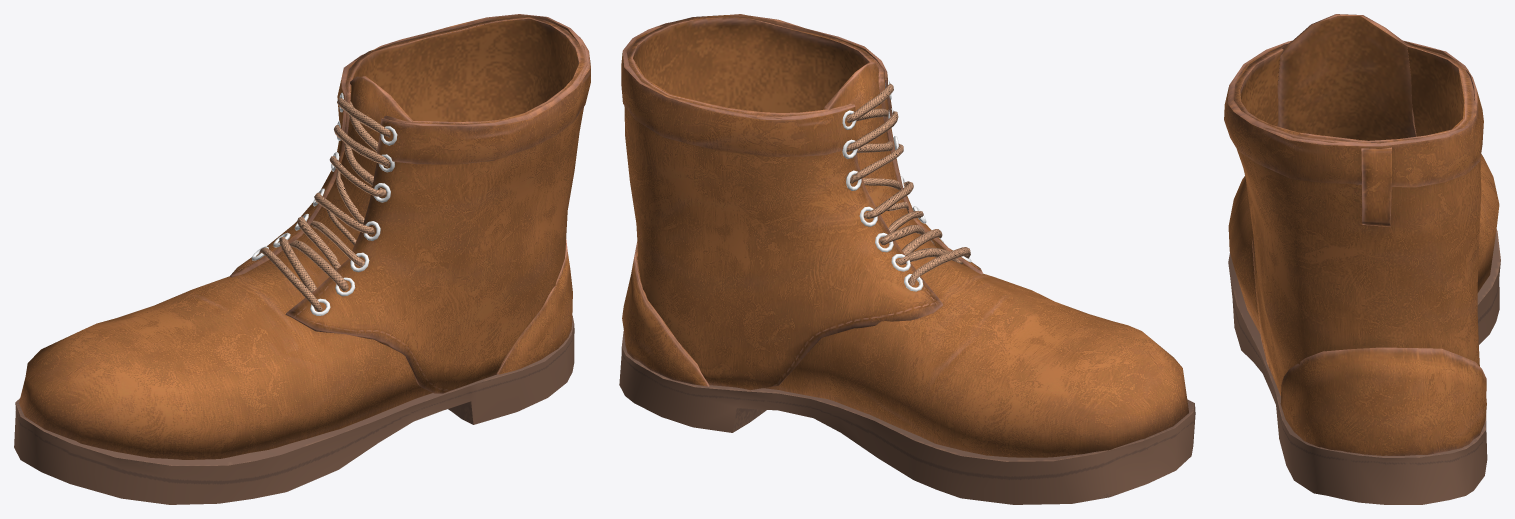
Rendered from SM_Shoes_B1.fbx.
3 renders of one model, left to right at view 1: azimuth 30°, elevation 25°; view 2: azimuth 150°, elevation 25°; view 3: azimuth 270°, elevation 25°, orthographic. The views are drawn at different scales.
Visible parts, largest first — view 1: SM_Shoes_B1; view 2: SM_Shoes_B1; view 3: SM_Shoes_B1.
Boxes of the visible parts, <box> form: SM_Shoes_B1: <box>14,14,590,504</box>; SM_Shoes_B1: <box>619,14,1195,504</box>; SM_Shoes_B1: <box>1224,14,1500,504</box>.
Size of the model in its own units: 33.34 by 12.84 by 19.87.
Materials: 1 (1 with a texture image).
